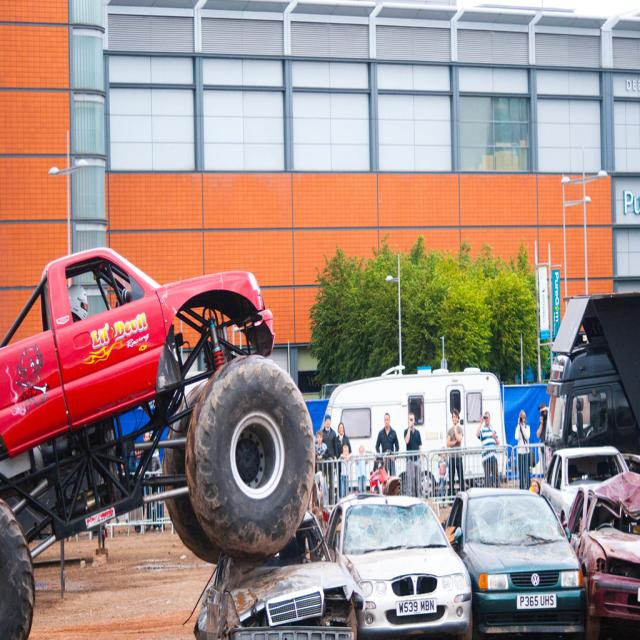car: (448, 477, 588, 638), (320, 492, 472, 638)
